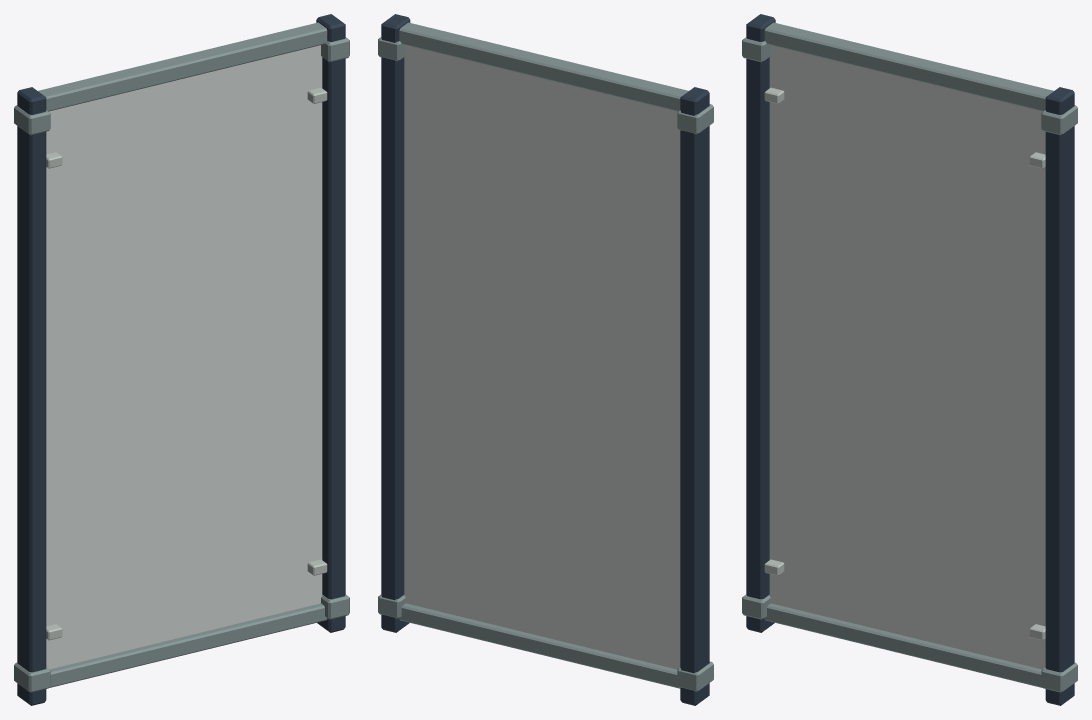
Rendered from glass_partition.glb.
The picture shows the model from 3 angles, left to right: view 1: azimuth 30°, elevation 25°; view 2: azimuth 150°, elevation 25°; view 3: azimuth 330°, elevation 25°; orthographic projection.
Parts seen in each view (by area): view 1: glass_partition__glass, glass_partition__metal, glass_partition__metal_light, glass_partition__steel; view 2: glass_partition__glass, glass_partition__metal, glass_partition__metal_light; view 3: glass_partition__glass, glass_partition__metal, glass_partition__metal_light, glass_partition__steel.
Part boxes in pixels (x1,y1,x2,y2): glass_partition__glass: (46,45,322,669); glass_partition__metal: (17,14,345,705); glass_partition__metal_light: (14,22,349,692); glass_partition__steel: (46,87,327,640); glass_partition__glass: (404,45,680,669); glass_partition__metal: (381,14,709,705); glass_partition__metal_light: (378,22,713,691); glass_partition__glass: (769,45,1045,669); glass_partition__metal: (746,14,1074,705); glass_partition__metal_light: (742,22,1077,692); glass_partition__steel: (764,87,1045,640).
Bounding box in the file's own units: 1.22 × 2.2 × 0.11.
